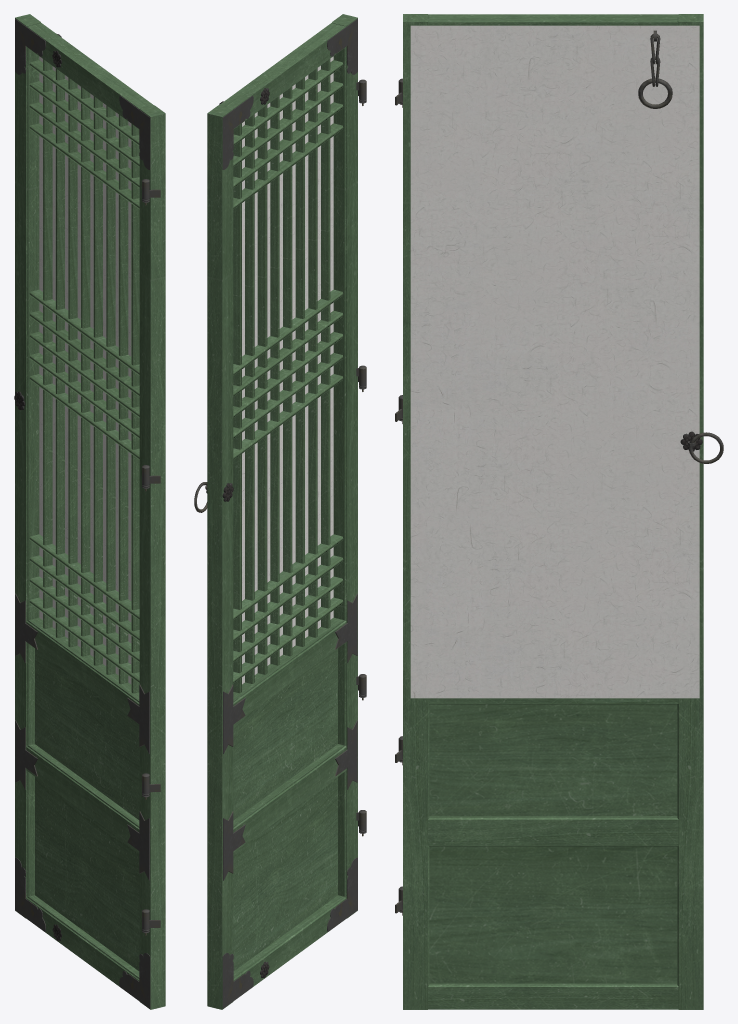
The model's file is SM_Door09G.fbx.
3 views of the same model, side by side, from view 1: azimuth 30°, elevation 25°; view 2: azimuth 150°, elevation 25°; view 3: azimuth 270°, elevation 25° (orthographic). The views are drawn at different scales.
Visible parts, largest first — view 1: SM_Door09G; view 2: SM_Door09G; view 3: SM_Door09G.
Boxes of the visible parts, x1=… form: SM_Door09G: x1=14, y1=14, x2=165, y2=1009; SM_Door09G: x1=194, y1=14, x2=366, y2=1009; SM_Door09G: x1=395, y1=14, x2=723, y2=1009.
Bounding box in the file's own units: 12.05 × 94.29 × 313.
1 material, 1 textured.
